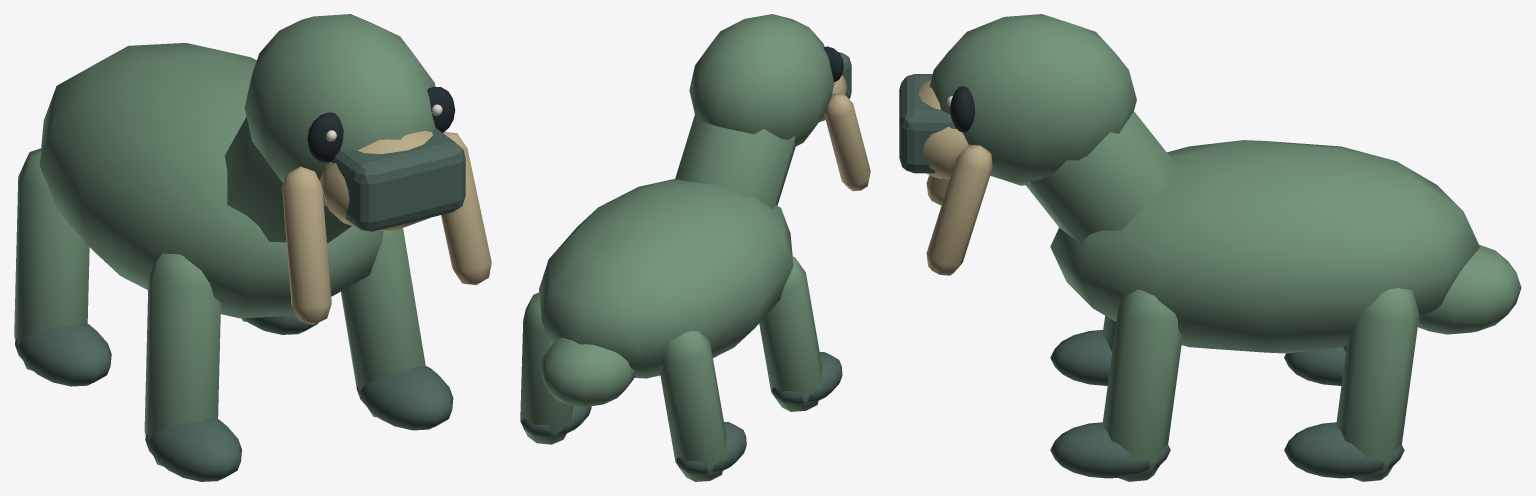
Rendered from org_placerias.glb.
3 views of the same model, side by side, from view 1: azimuth 30°, elevation 25°; view 2: azimuth 150°, elevation 25°; view 3: azimuth 270°, elevation 25° (orthographic). The views are drawn at different scales.
Visible parts, largest first — view 1: Body, Head, Leg_FR, Leg_BR, Leg_FL, Eye_R, Leg_BL, Eye_L; view 2: Body, Head, Leg_BR, Leg_FR, Tail, Leg_BL, Eye_R; view 3: Body, Head, Leg_BL, Leg_FL, Tail, Leg_FR, Leg_BR, Eye_L.
Part boxes in pixels (x1,y1,x2,y2): Body: (39,43,383,318); Head: (225,14,491,324); Leg_FR: (144,253,241,481); Leg_BR: (14,148,111,386); Leg_FL: (341,228,453,430); Eye_R: (307,112,343,162); Leg_BL: (241,315,318,334); Eye_L: (427,87,455,132); Body: (539,179,793,378); Head: (675,14,870,209); Leg_BR: (659,331,746,481); Leg_FR: (759,256,842,411); Tail: (540,337,635,407); Leg_BL: (520,292,591,444); Eye_R: (823,46,843,82); Body: (1050,140,1479,353); Head: (899,14,1176,275); Leg_BL: (1284,288,1419,481); Leg_FL: (1050,289,1182,481); Tail: (1418,245,1521,334); Leg_FR: (1050,316,1116,385); Leg_BR: (1284,345,1346,385); Eye_L: (947,86,974,132).
Size of the model in its own units: 0.7743 by 1.2 by 1.64.
